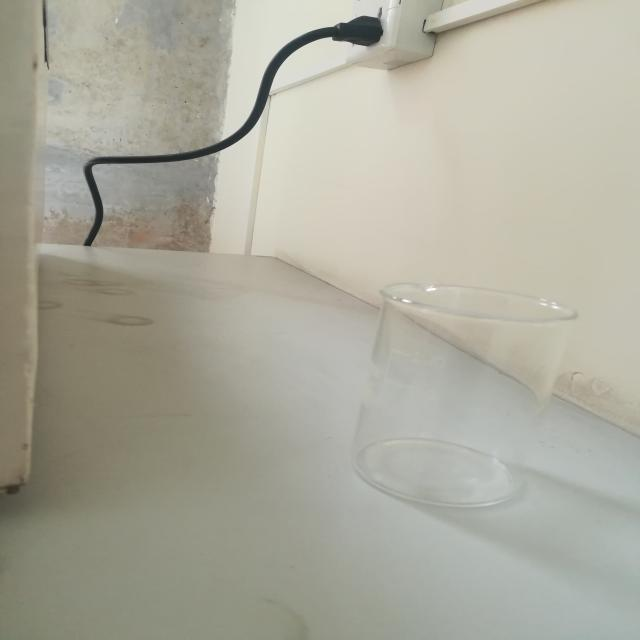Beaker: (327, 234, 600, 554)
